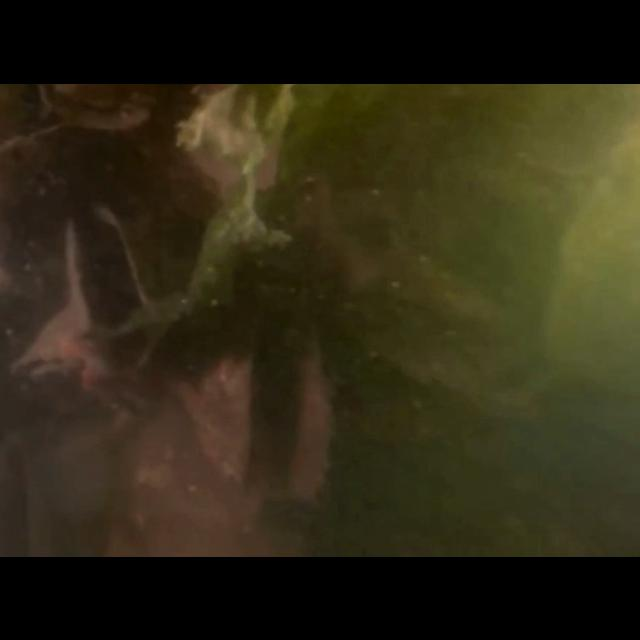Oyster-Open: (185, 310, 338, 502), (67, 208, 155, 340), (36, 83, 162, 137), (12, 307, 92, 385)
